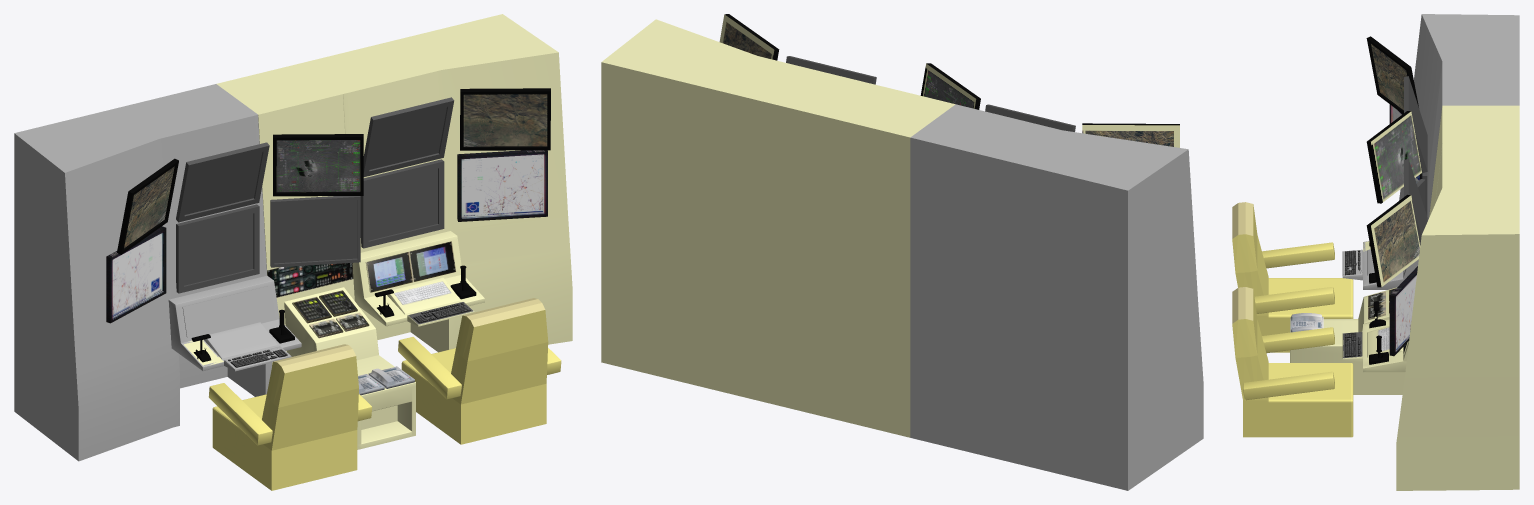
The model's file is controls_1_7_for_export_full.fbx.
The picture shows the model from 3 angles, left to right: view 1: azimuth 30°, elevation 25°; view 2: azimuth 150°, elevation 25°; view 3: azimuth 270°, elevation 25°; orthographic projection. The views are drawn at different scales.
Parts seen in each view (by area): view 1: polySurface28, polySurface50, polySurface27, polySurface38, polySurface13, polySurface16, polySurface56, polySurface22, polySurface21, polySurface23, polySurface15, polySurface20 (+8 smaller); view 2: polySurface28, polySurface50, polySurface13, polySurface32, polySurface15, polySurface23, polySurface20, polySurface56; view 3: polySurface50, polySurface28, polySurface38, polySurface27, polySurface16, polySurface13, polySurface23, polySurface15, polySurface32, polySurface56, polySurface39, polySurface22 (+5 smaller).
Part boxes in pixels (left/top/right/bottom): polySurface28: left=14, top=84, right=301, bottom=461; polySurface50: left=301, top=14, right=572, bottom=352; polySurface27: left=212, top=344, right=358, bottom=490; polySurface38: left=401, top=298, right=548, bottom=444; polySurface13: left=216, top=63, right=354, bottom=366; polySurface16: left=284, top=287, right=415, bottom=449; polySurface56: left=176, top=142, right=360, bottom=367; polySurface22: left=457, top=150, right=547, bottom=221; polySurface21: left=360, top=159, right=444, bottom=248; polySurface23: left=460, top=88, right=550, bottom=150; polySurface15: left=273, top=134, right=363, bottom=196; polySurface20: left=363, top=97, right=454, bottom=176; polySurface28: left=910, top=104, right=1203, bottom=490; polySurface50: left=601, top=19, right=863, bottom=415; polySurface13: left=819, top=82, right=955, bottom=437; polySurface32: left=1082, top=123, right=1179, bottom=147; polySurface15: left=920, top=63, right=980, bottom=109; polySurface23: left=719, top=14, right=779, bottom=60; polySurface20: left=786, top=56, right=876, bottom=84; polySurface56: left=985, top=104, right=1075, bottom=131; polySurface50: left=1342, top=143, right=1519, bottom=490; polySurface28: left=1342, top=14, right=1519, bottom=289; polySurface38: left=1232, top=287, right=1353, bottom=437; polySurface27: left=1232, top=202, right=1353, bottom=352; polySurface16: left=1290, top=287, right=1405, bottom=394; polySurface13: left=1429, top=105, right=1519, bottom=217; polySurface23: left=1366, top=194, right=1420, bottom=287; polySurface15: left=1366, top=111, right=1421, bottom=203; polySurface32: left=1366, top=36, right=1418, bottom=113; polySurface56: left=1343, top=76, right=1427, bottom=275; polySurface39: left=1243, top=371, right=1334, bottom=400; polySurface22: left=1389, top=266, right=1417, bottom=356.
Size of the model in its own units: 38.53 by 20.75 by 21.16.
